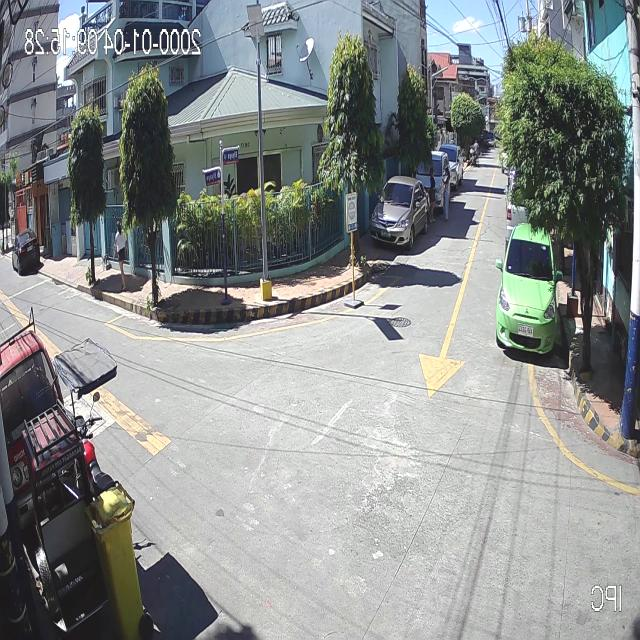standing: (439, 166, 452, 221), (473, 139, 480, 165)
walking: (113, 220, 128, 292), (428, 166, 437, 223)
